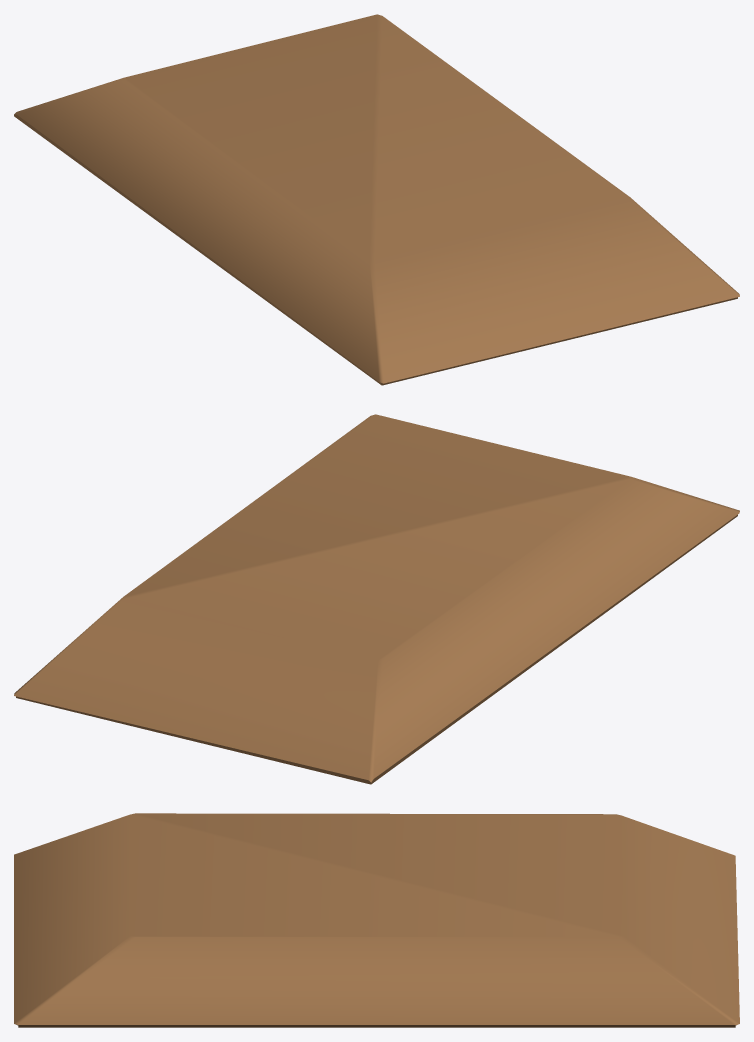
File: Platform2.fbx
The picture shows the model from 3 angles, top to bottom: view 1: azimuth 30°, elevation 25°; view 2: azimuth 150°, elevation 25°; view 3: azimuth 270°, elevation 25°; orthographic projection. The views are drawn at different scales.
Visible parts, largest first — view 1: pasted__pCube1; view 2: pasted__pCube1; view 3: pasted__pCube1.
Part boxes in pixels (x1,y1,x2,y2): pasted__pCube1: (14,14,739,385); pasted__pCube1: (14,414,739,784); pasted__pCube1: (14,813,739,1027).
Bounding box in the file's own units: 4.73 × 0.8665 × 8.46.
